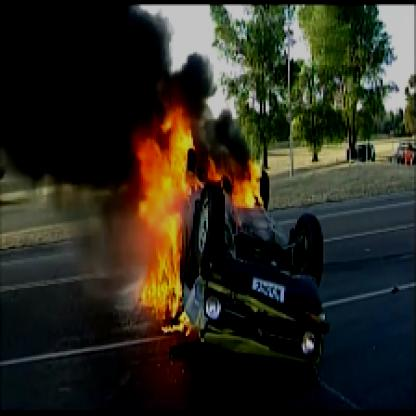Fire: (123, 87, 269, 342)
